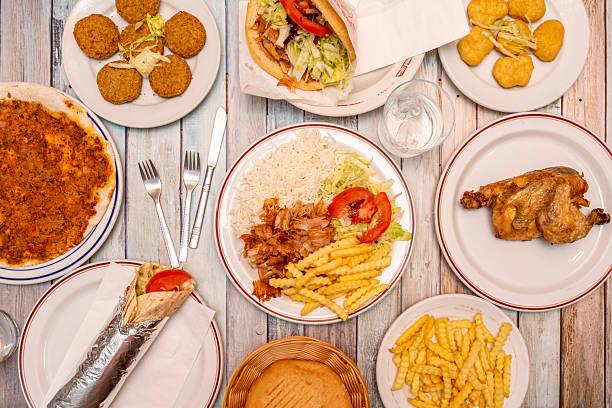Braised Crucian Carp: (215, 123, 412, 324), (433, 107, 612, 314), (16, 257, 223, 408), (1, 74, 125, 287), (236, 2, 428, 116), (61, 0, 218, 128), (374, 291, 531, 408), (439, 0, 592, 111)
